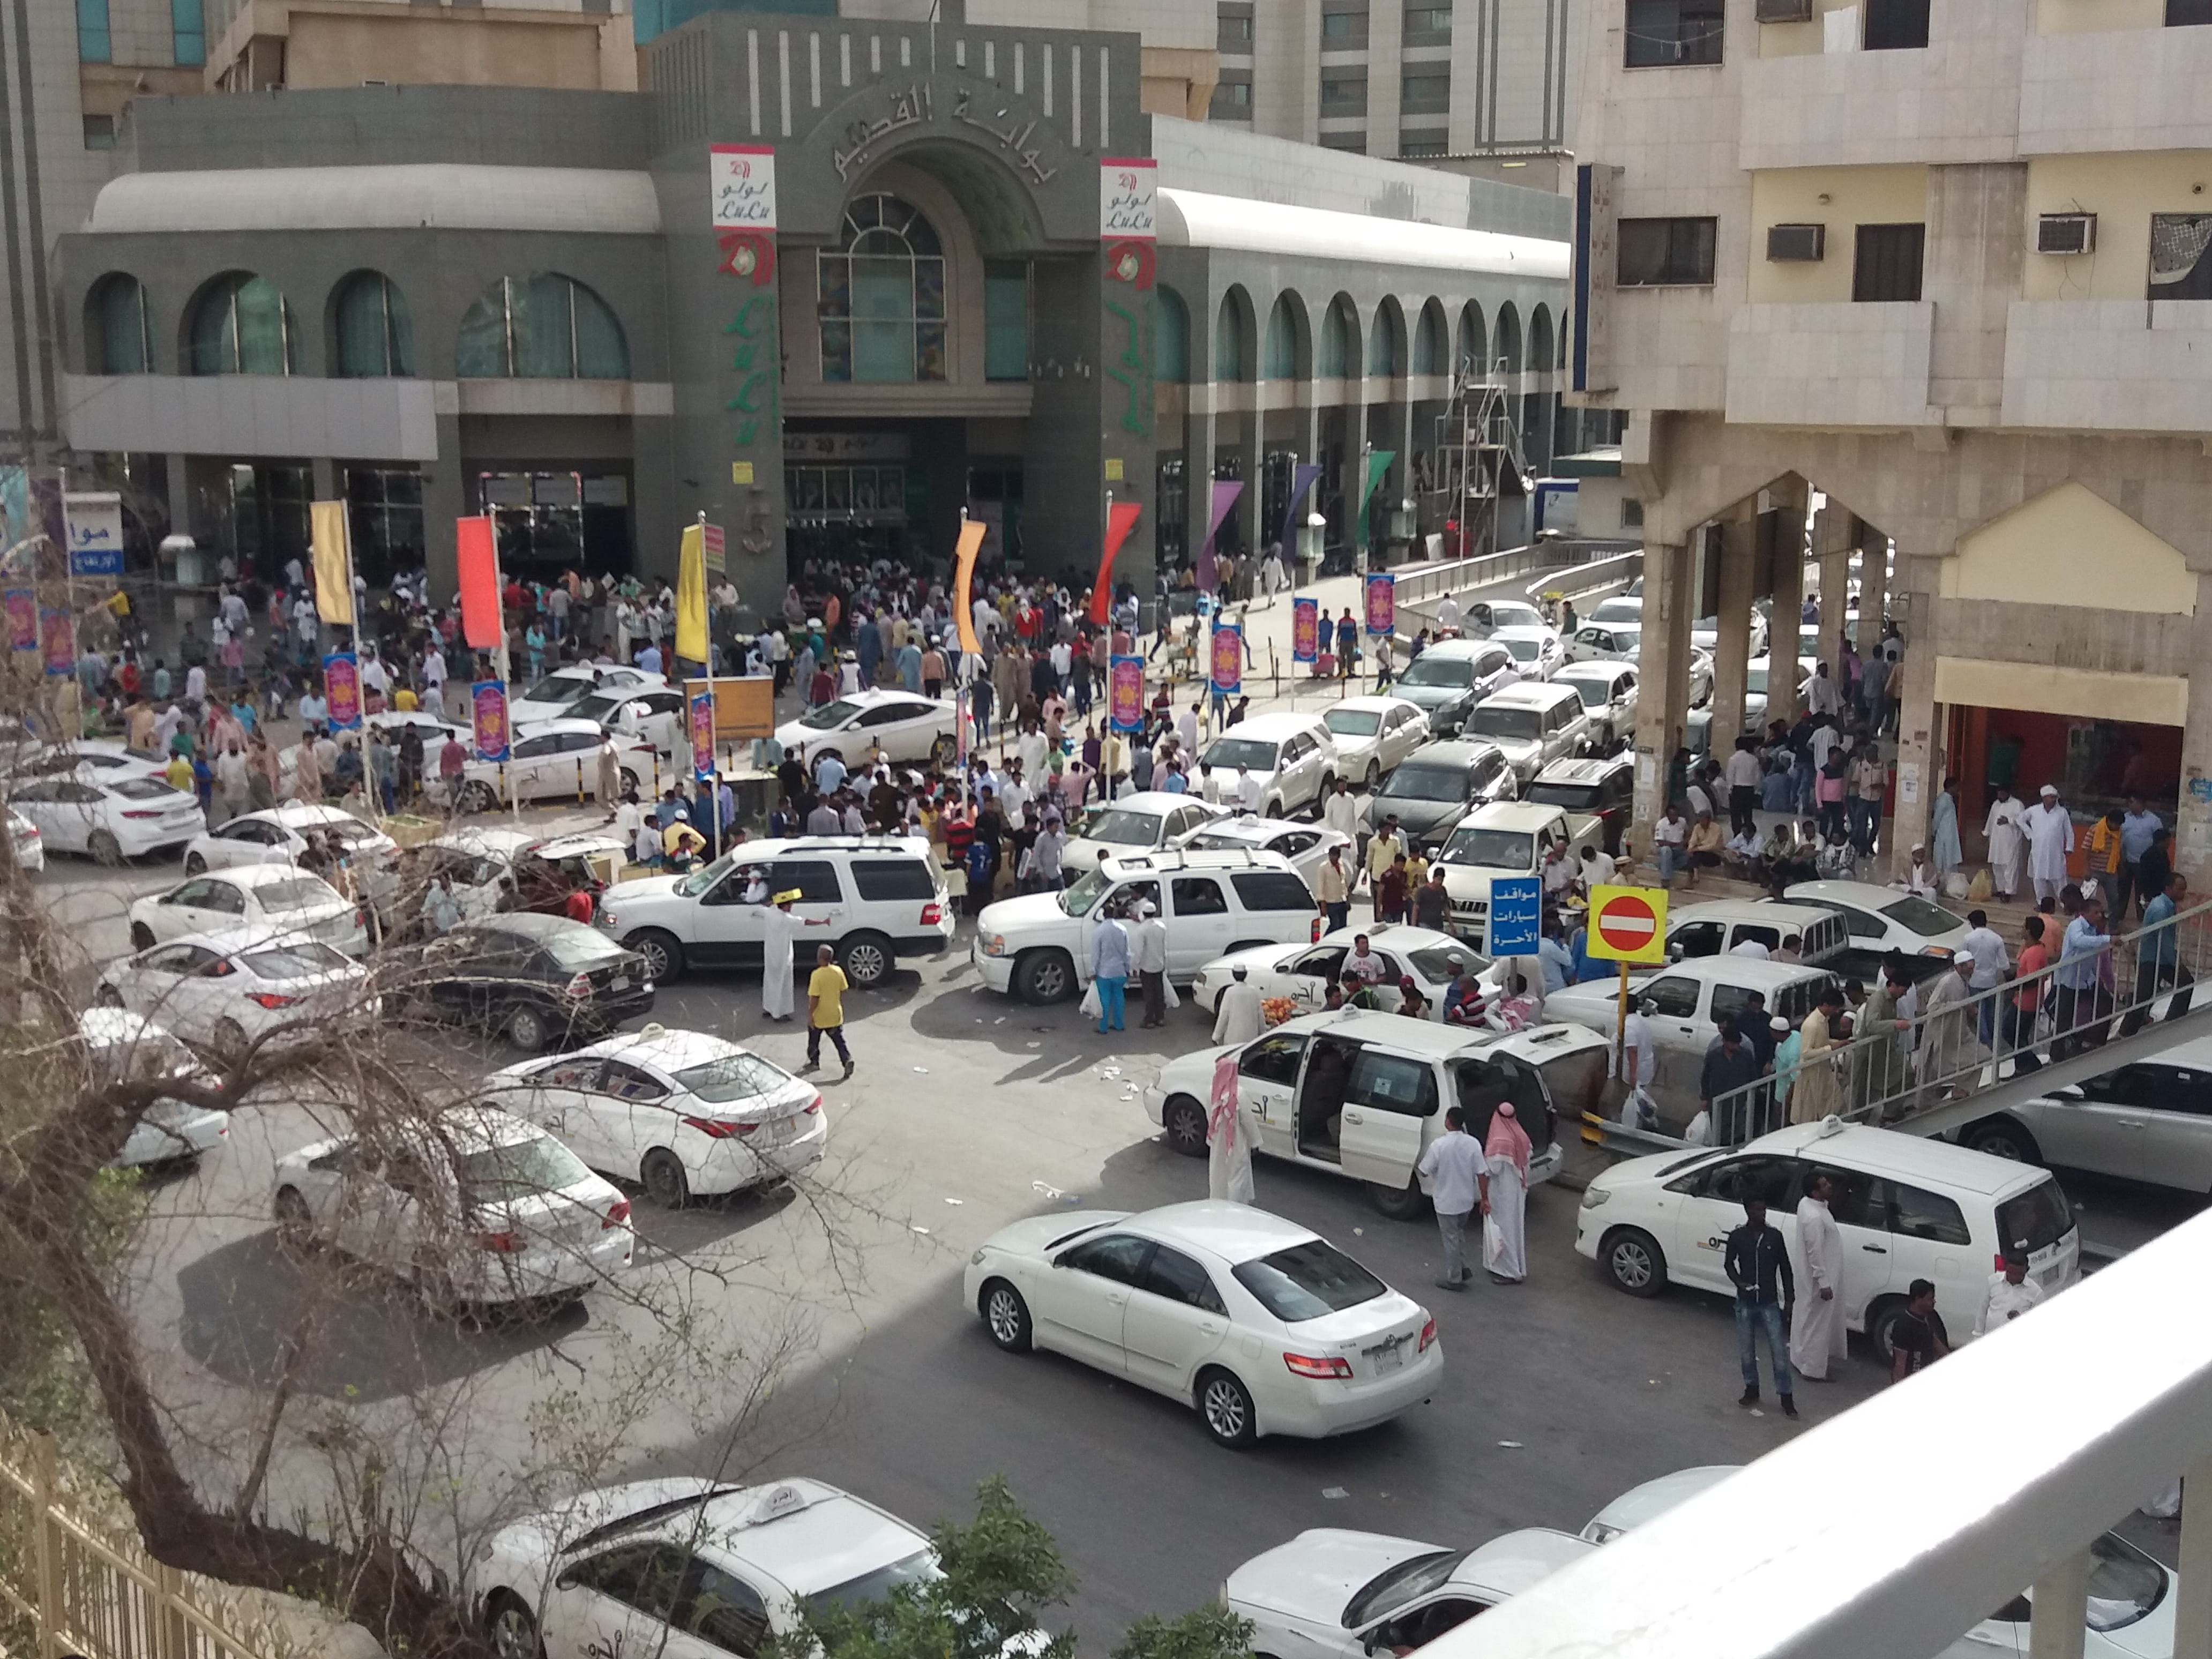Car: (963, 1187, 1444, 1448), (1576, 1103, 2087, 1342), (469, 1478, 1078, 1659), (1139, 1002, 1568, 1209), (266, 1112, 636, 1330), (479, 1026, 836, 1215), (597, 835, 953, 992), (974, 854, 1320, 983), (1754, 840, 2012, 997), (98, 929, 381, 1066), (425, 711, 685, 821), (131, 863, 380, 964), (765, 660, 975, 775), (1353, 720, 1514, 847), (1432, 805, 1581, 931), (9, 770, 216, 859), (1186, 721, 1336, 819), (1381, 638, 1524, 725), (502, 648, 674, 714), (1463, 598, 1562, 666)
